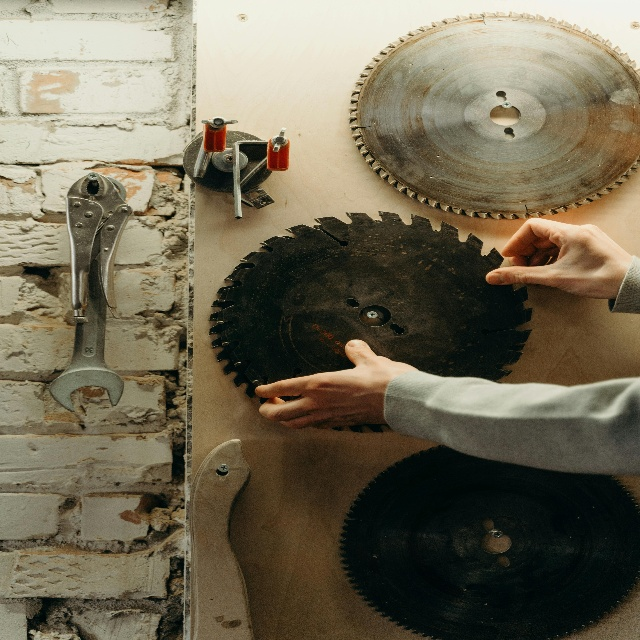Sin_guantes: (255, 338, 418, 431), (485, 217, 632, 298)
